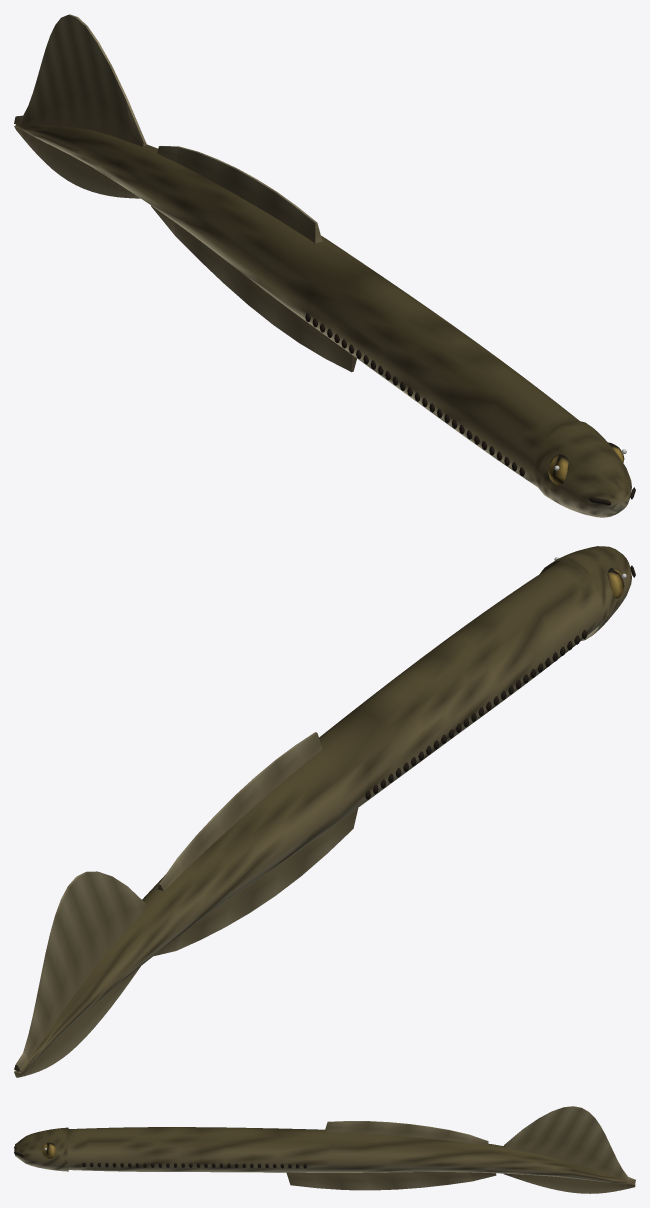
File: Euphanerops.fbx
The picture shows the model from 3 angles, top to bottom: view 1: azimuth 30°, elevation 25°; view 2: azimuth 150°, elevation 25°; view 3: azimuth 270°, elevation 25°; orthographic projection. The views are drawn at different scales.
Parts seen in each view (by area): view 1: Euphanerops; view 2: Euphanerops; view 3: Euphanerops.
Part boxes in pixels (x1=…): Euphanerops: x1=14, y1=14, x2=635, y2=517; Euphanerops: x1=14, y1=546, x2=635, y2=1077; Euphanerops: x1=14, y1=1106, x2=635, y2=1193.
Bounding box in the file's own units: 0.109 × 0.248 × 1.6.
